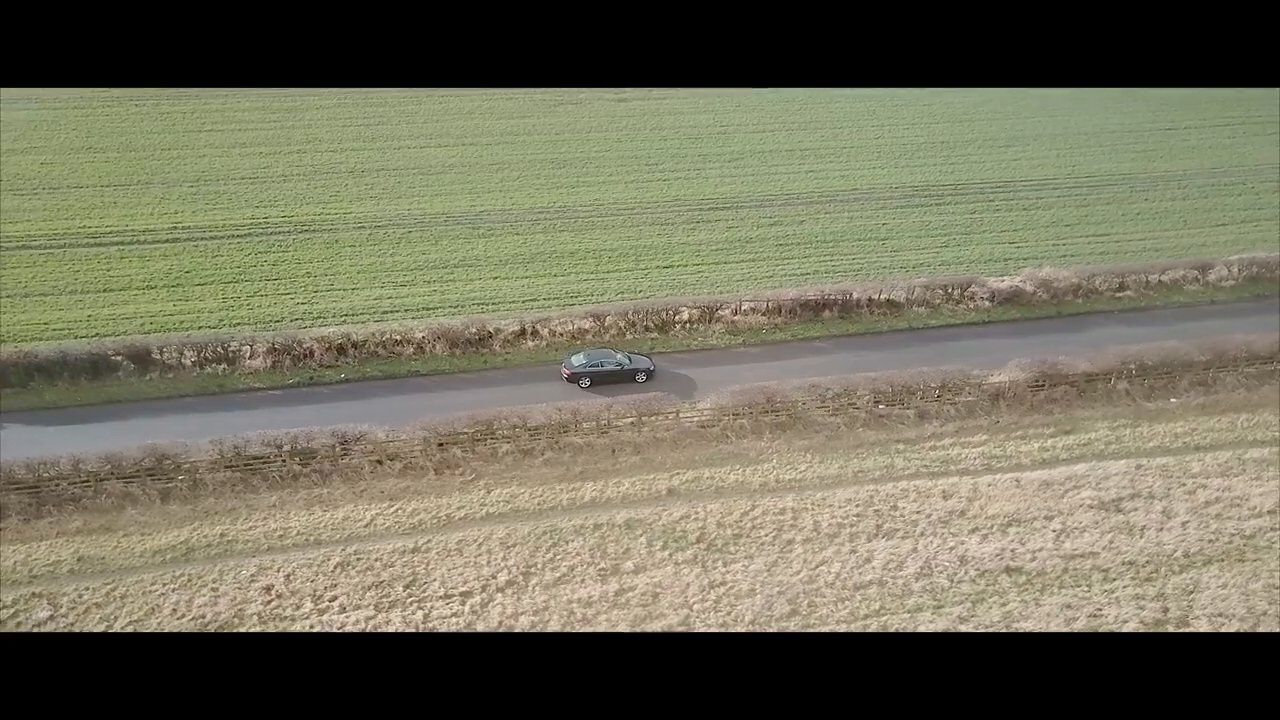araba: (558, 346, 658, 391)
